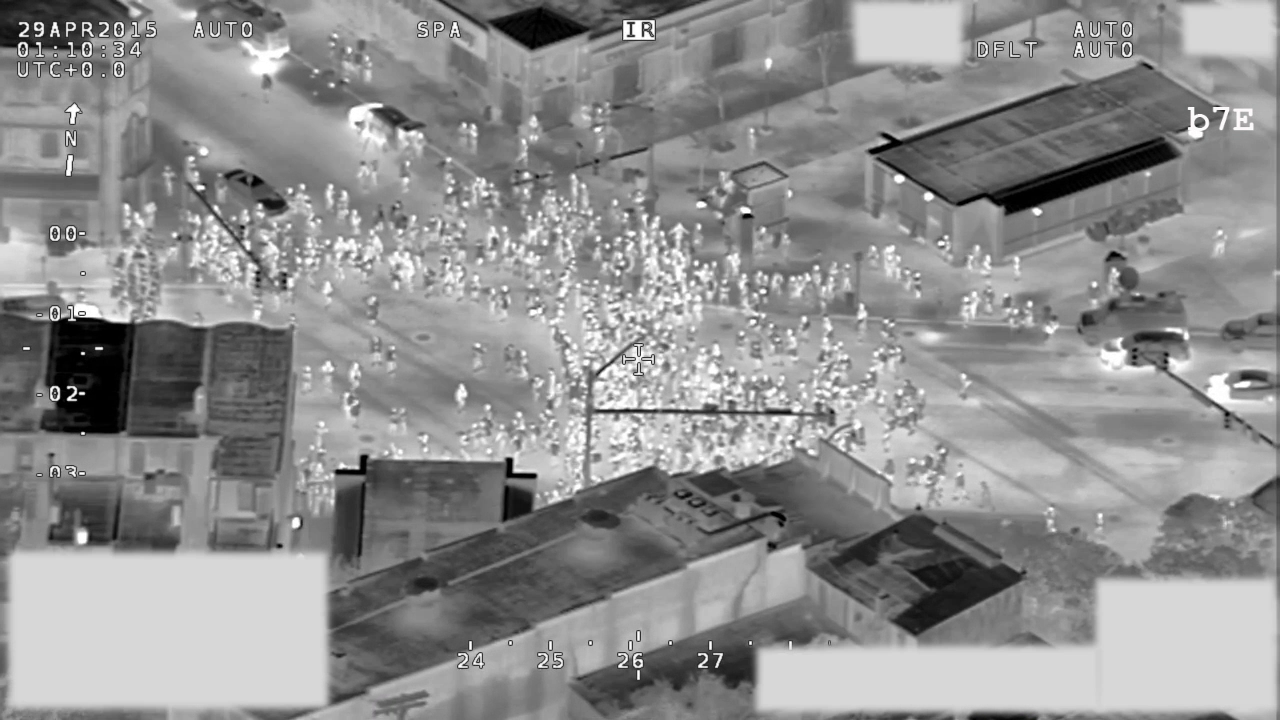vehicle: (1073, 266, 1192, 345), (193, 1, 291, 63), (348, 97, 428, 148), (1096, 330, 1196, 368), (220, 166, 289, 215), (1, 292, 103, 323), (1204, 367, 1280, 403), (1215, 311, 1280, 352)
